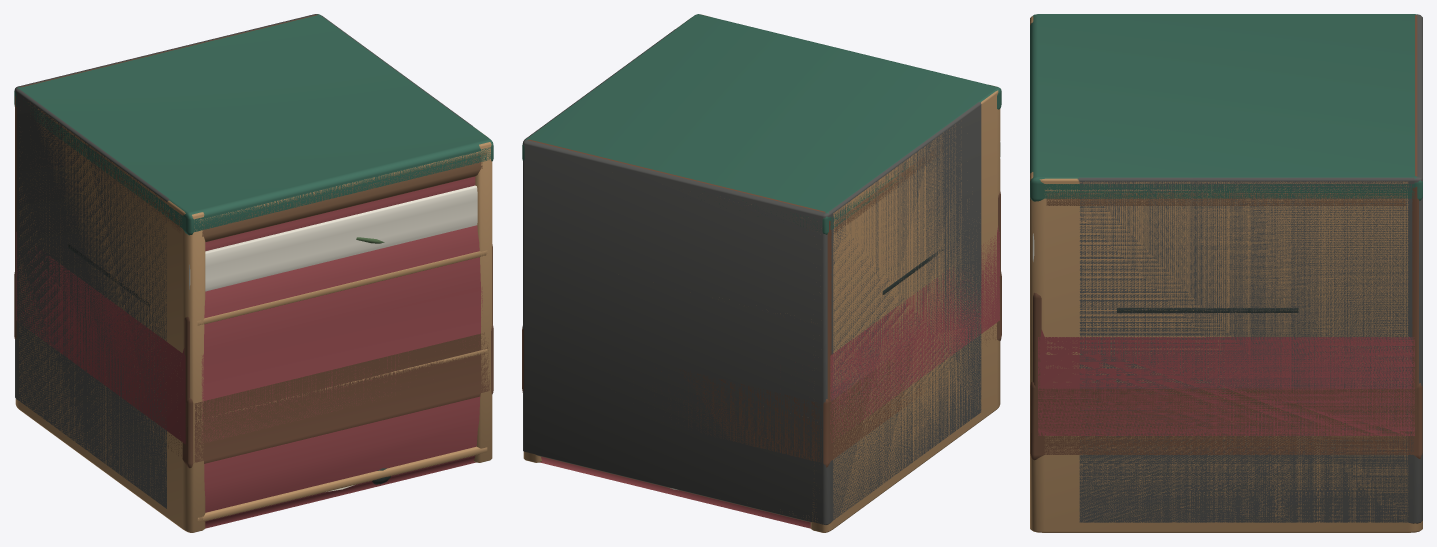
File: furniture.glb
3 renders of one model, left to right at view 1: azimuth 30°, elevation 25°; view 2: azimuth 150°, elevation 25°; view 3: azimuth 270°, elevation 25°, orthographic. The views are drawn at different scales.
Visible parts, largest first — view 1: Floor mattress base, Desk green tabletop, Cupboard body, Shelf side, Bed timber frame, Floor mattress piping, Stool seat, Shelf side.001, Floor mattress cover, Shelf board, Shelf board.002, Shelf board.003 (+1 smaller); view 2: Cupboard body, Desk green tabletop, Shelf side, Floor mattress base, Bed timber frame, Headboard, Stool seat; view 3: Cupboard body, Shelf side.001, Desk green tabletop, Floor mattress base, Bed timber frame, Stool seat, Headboard, Chair armrest.001, Footboard.
Boxes of the visible parts, x1,y1,x2,y2 form: Floor mattress base: (16, 225, 482, 528); Desk green tabletop: (14, 14, 493, 235); Cupboard body: (15, 14, 472, 508); Shelf side: (15, 102, 205, 532); Bed timber frame: (14, 272, 493, 468); Floor mattress piping: (189, 185, 477, 291); Stool seat: (37, 118, 482, 241); Shelf side.001: (474, 127, 492, 462); Floor mattress cover: (205, 176, 475, 251); Shelf board: (198, 446, 487, 521); Shelf board.002: (197, 250, 487, 325); Shelf board.003: (199, 150, 487, 222); Cupboard body: (523, 28, 981, 524); Desk green tabletop: (522, 14, 1001, 234); Shelf side: (810, 85, 1000, 532); Floor mattress base: (540, 226, 999, 528); Bed timber frame: (522, 272, 1001, 467); Headboard: (528, 139, 831, 429); Stool seat: (806, 143, 942, 233); Cupboard body: (1077, 14, 1422, 523); Shelf side.001: (1030, 172, 1422, 532); Desk green tabletop: (1030, 14, 1422, 201); Floor mattress base: (1038, 330, 1414, 435); Bed timber frame: (1030, 381, 1422, 460); Stool seat: (1046, 192, 1406, 205); Headboard: (1412, 15, 1418, 430); Chair armrest.001: (1117, 308, 1298, 312); Footboard: (1033, 292, 1041, 429).
Bounding box in the file's own units: 1 × 1 × 1.
